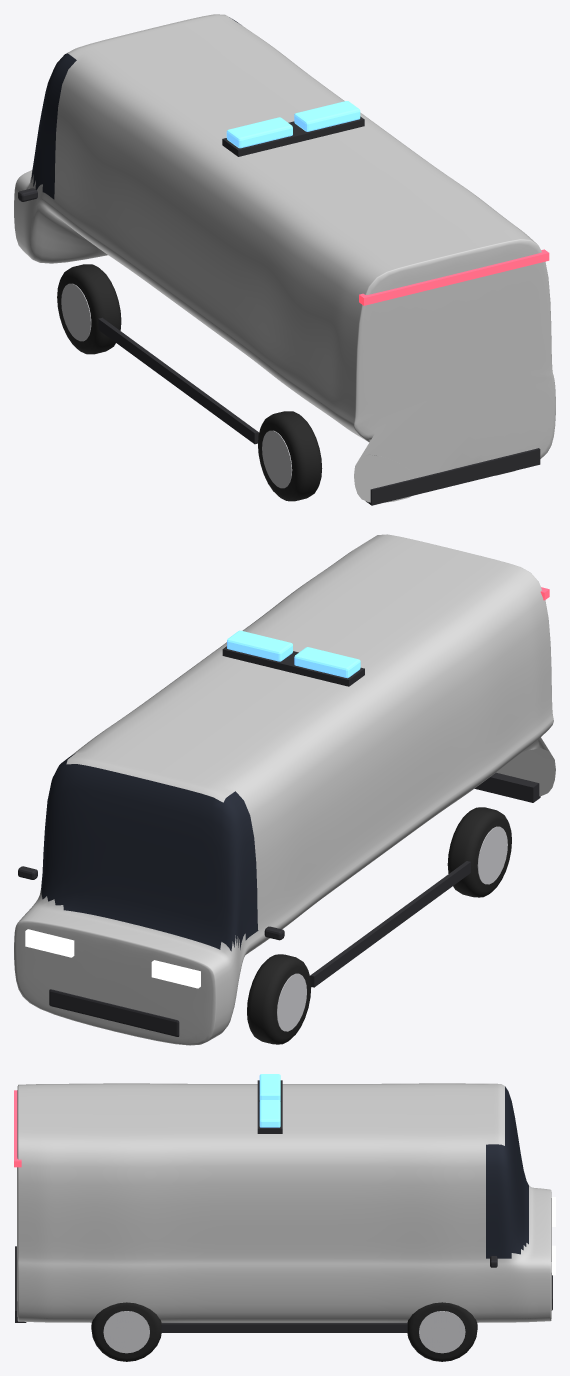
The model's file is car_policevan.glb.
3 renders of one model, top to bottom at view 1: azimuth 30°, elevation 25°; view 2: azimuth 150°, elevation 25°; view 3: azimuth 270°, elevation 25°, orthographic. The views are drawn at different scales.
Parts seen in each view (by area): view 1: paint, trim, wheel_RL, wheel_FL, glass, lamp_r, bar_red, bar_blue; view 2: paint, glass, trim, wheel_FL, wheel_RL, lamp_f, bar_red, bar_blue; view 3: paint, glass, trim, wheel_RR, wheel_FR, bar_blue, bar_red.
Part boxes in pixels (x1=…): paint: x1=14, y1=14, x2=555, y2=502; trim: x1=18, y1=116, x2=540, y2=505; wheel_RL: x1=258, y1=411, x2=322, y2=501; wheel_FL: x1=57, y1=264, x2=121, y2=354; glass: x1=31, y1=17, x2=240, y2=199; lamp_r: x1=359, y1=249, x2=549, y2=305; bar_red: x1=226, y1=117, x2=292, y2=148; bar_blue: x1=294, y1=101, x2=360, y2=131; paint: x1=14, y1=534, x2=555, y2=1045; glass: x1=41, y1=753, x2=258, y2=951; trim: x1=18, y1=646, x2=540, y2=1036; wheel_FL: x1=247, y1=954, x2=311, y2=1044; wheel_RL: x1=447, y1=807, x2=511, y2=897; lamp_f: x1=25, y1=929, x2=200, y2=988; bar_red: x1=294, y1=647, x2=360, y2=678; bar_blue: x1=227, y1=630, x2=292, y2=661; paint: x1=17, y1=1083, x2=551, y2=1322; glass: x1=486, y1=1086, x2=528, y2=1258; trim: x1=15, y1=1080, x2=552, y2=1332; wheel_RR: x1=91, y1=1302, x2=161, y2=1361; wheel_FR: x1=407, y1=1302, x2=477, y2=1361; bar_blue: x1=259, y1=1100, x2=280, y2=1127; bar_red: x1=259, y1=1074, x2=280, y2=1100.
Bounding box in the file's own units: 2.5 × 2.61 × 5.67.
